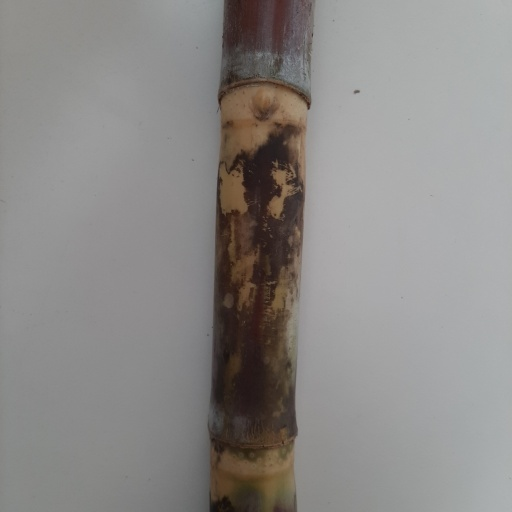Bud: (247, 87, 280, 123)
